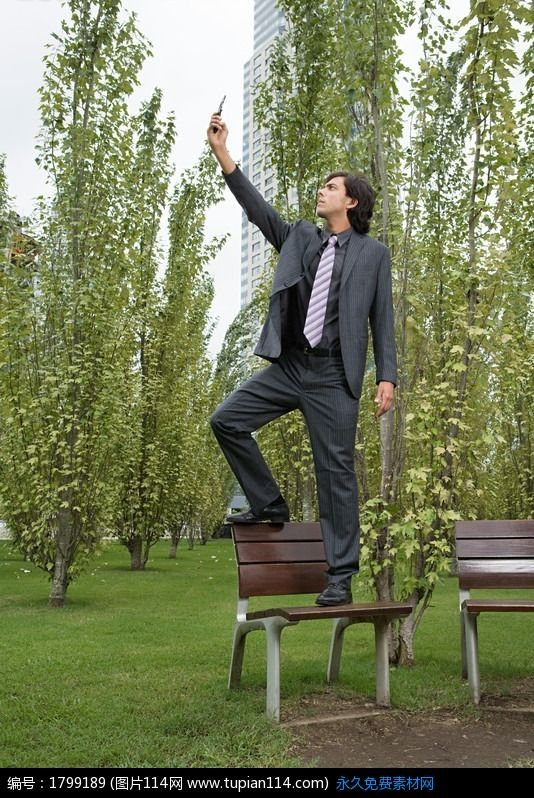handsup: (203, 79, 399, 618)
